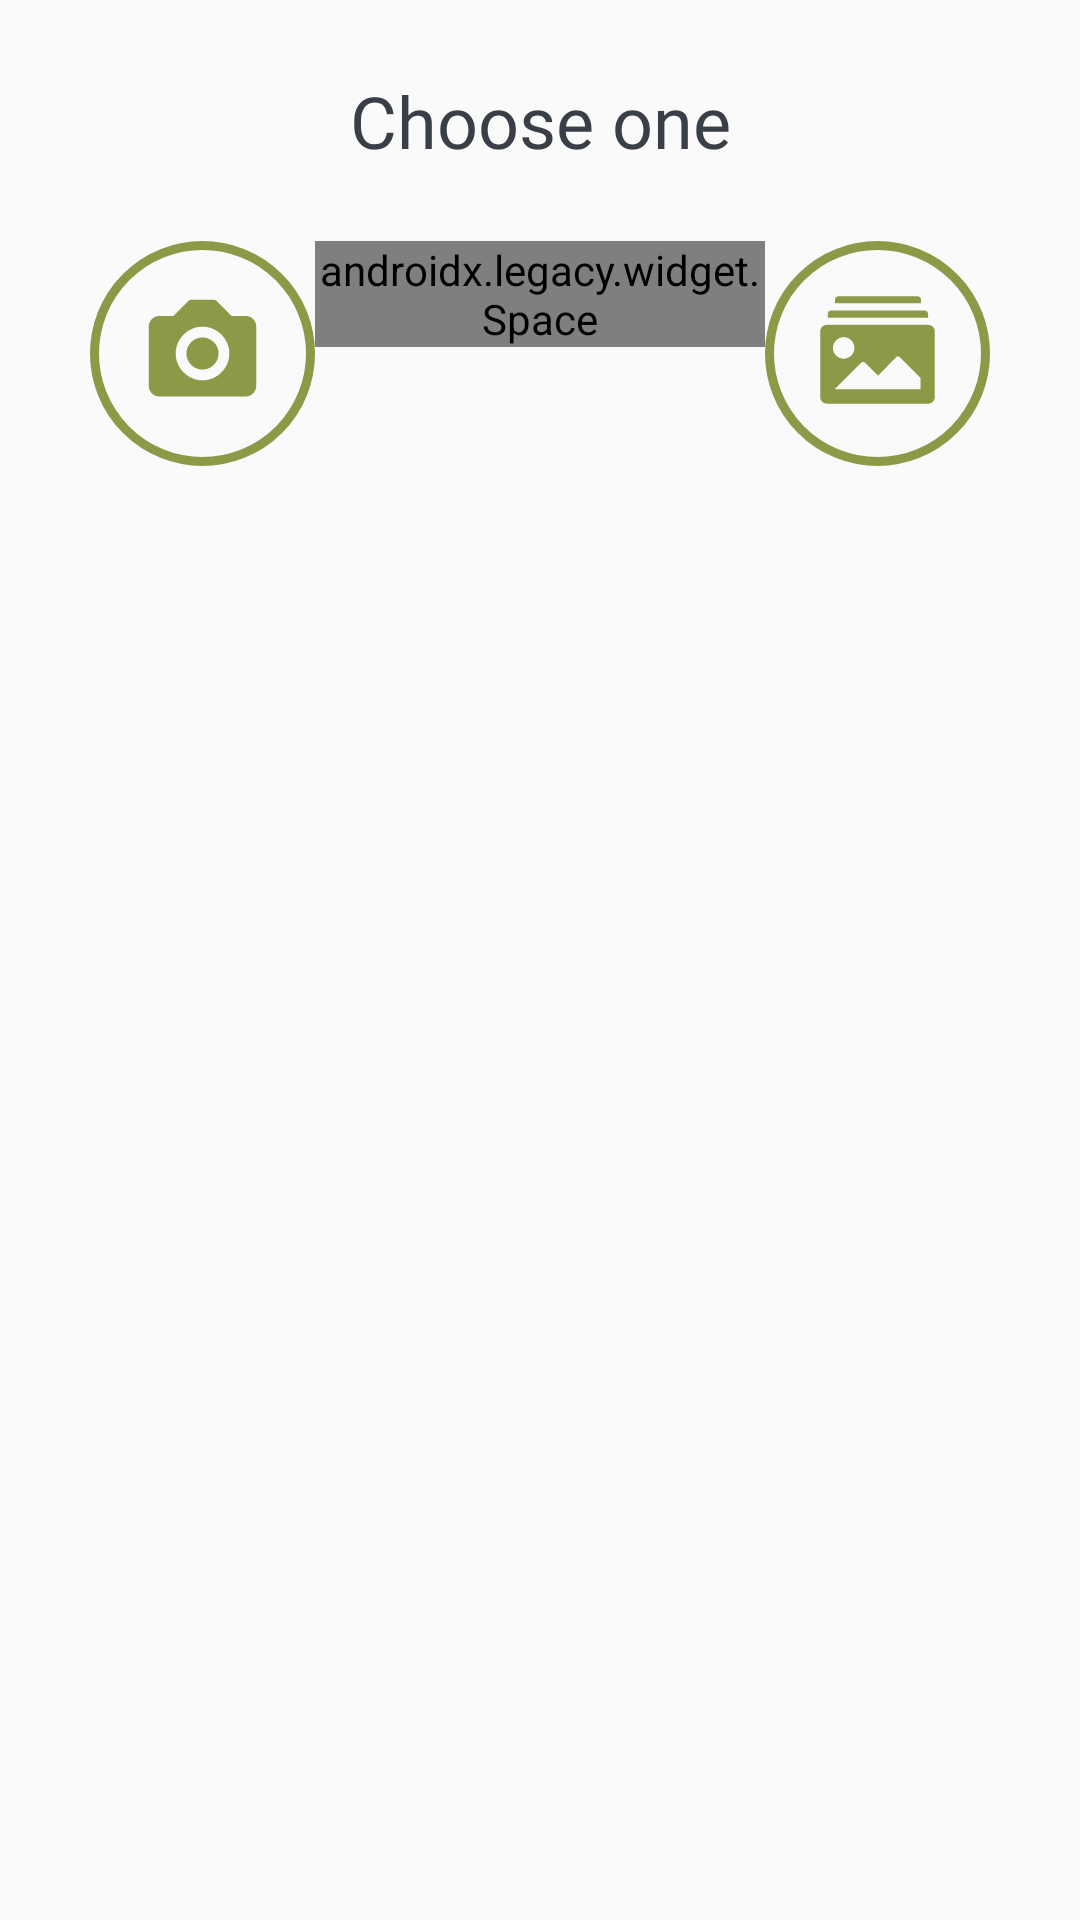

Icons on this 1080px x 1920px Android screen, each with its box as box(x1, y1, x2, y2):
camera: box(148, 299, 257, 397)
gallery: box(820, 296, 935, 404)
